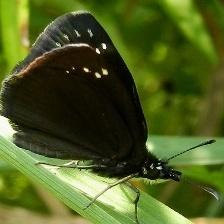butterfly: (1, 12, 182, 180)
